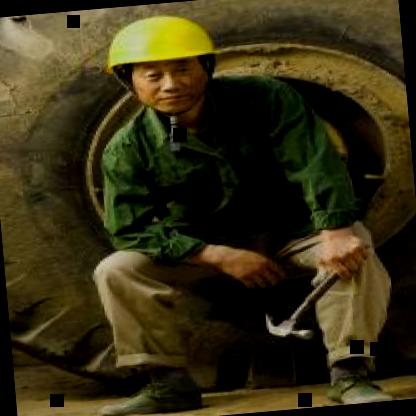helmet: (93, 11, 239, 127)
